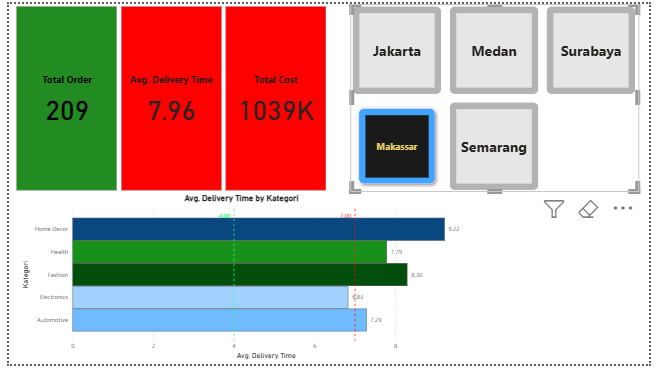

Layout of this report page (visuals, bound fields, positions):
{"tool":"powerbi","page":{"name":"Page 1","canvas":[1280,720],"ordinal":0},"visuals":[{"type":"cardVisual","fields":{"Data":["Count(supply_chain_cleaned_final.Order_ID)","Avg(supply_chain_cleaned_final.Lead_Time_Days)","Sum(supply_chain_cleaned_final.Shipping_Cost)"]},"box":[10,0,630,378],"z":0},{"type":"clusteredBarChart","title":"Avg. Delivery Time by Kategori","fields":{"Category":["supply_chain_cleaned_final.Product_Category"],"Y":["Avg(supply_chain_cleaned_final.Lead_Time_Days)"]},"box":[10,376.7,910,343.3],"z":1000},{"type":"advancedSlicerVisual","fields":{"Values":["supply_chain_cleaned_final.Warehouse_Location"]},"box":[682.5,0,577.5,377.5],"z":2000}]}

Visuals, with their boxes in screenshot pixels (x1, y1, x2, y2), scaled from the page's 1280x720 canvas onto the 658x370 screenshot:
cardVisual - Count(supply_chain_cleaned_final.Order_ID) x Avg(supply_chain_cleaned_final.Lead_Time_Days): (5, 0, 329, 194)
"Avg. Delivery Time by Kategori" clusteredBarChart: (5, 194, 473, 369)
advancedSlicerVisual - supply_chain_cleaned_final.Warehouse_Location: (351, 0, 648, 194)
